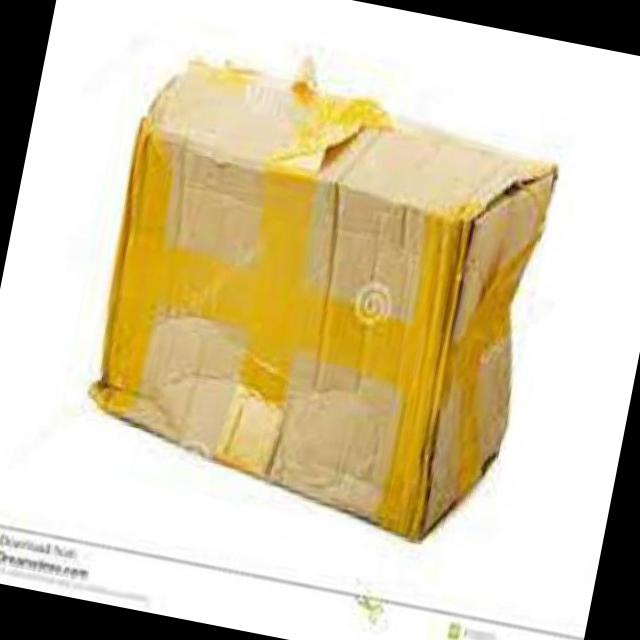box: (109, 61, 554, 556)
